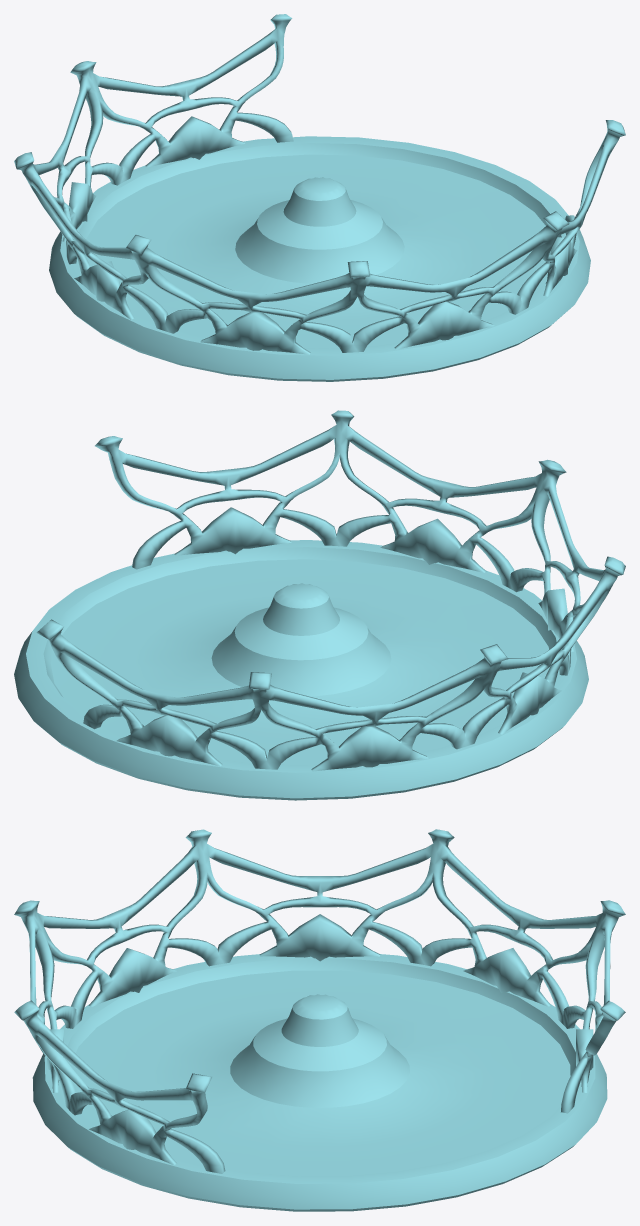
File: Elevator.fbx
3 views of the same model, one above another, from view 1: azimuth 30°, elevation 25°; view 2: azimuth 150°, elevation 25°; view 3: azimuth 270°, elevation 25° (orthographic). The views are drawn at different scales.
Parts seen in each view (by area): view 1: Circle.002, Plane.039; view 2: Circle.002, Plane.039; view 3: Circle.002, Plane.039.
Part boxes in pixels (x1,y1,x2,y2): Circle.002: (49, 136, 590, 381); Plane.039: (14, 14, 625, 354); Circle.002: (14, 540, 588, 800); Plane.039: (36, 410, 625, 771); Circle.002: (32, 954, 607, 1211); Plane.039: (14, 829, 625, 1173).
Bounding box in the file's own units: 22.4 × 5.65 × 22.4.
